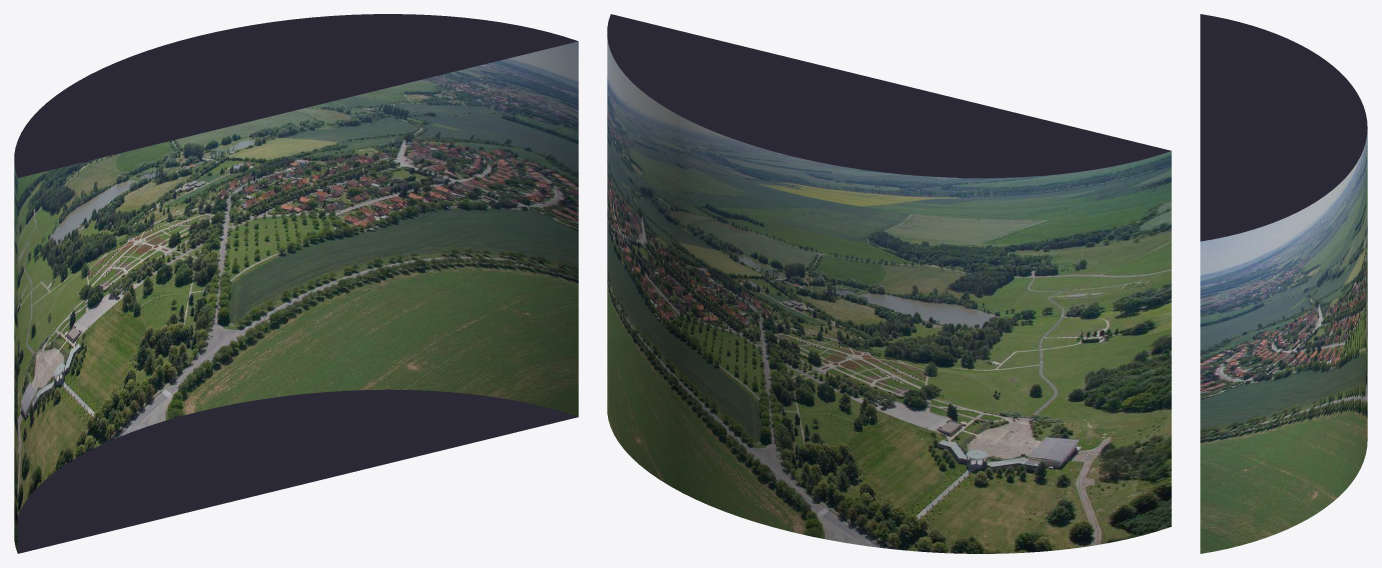
File: luft.glb
The picture shows the model from 3 angles, left to right: view 1: azimuth 30°, elevation 25°; view 2: azimuth 150°, elevation 25°; view 3: azimuth 270°, elevation 25°; orthographic projection. The views are drawn at different scales.
Parts seen in each view (by area): view 1: root; view 2: root; view 3: root.
Part boxes in pixels (left/top/right/bottom): root: left=14, top=14, right=578, bottom=553; root: left=607, top=14, right=1171, bottom=553; root: left=1200, top=14, right=1367, bottom=553.
Bounding box in the file's own units: 4.87 × 3.12 × 1.51.
2 materials, 1 textured.
